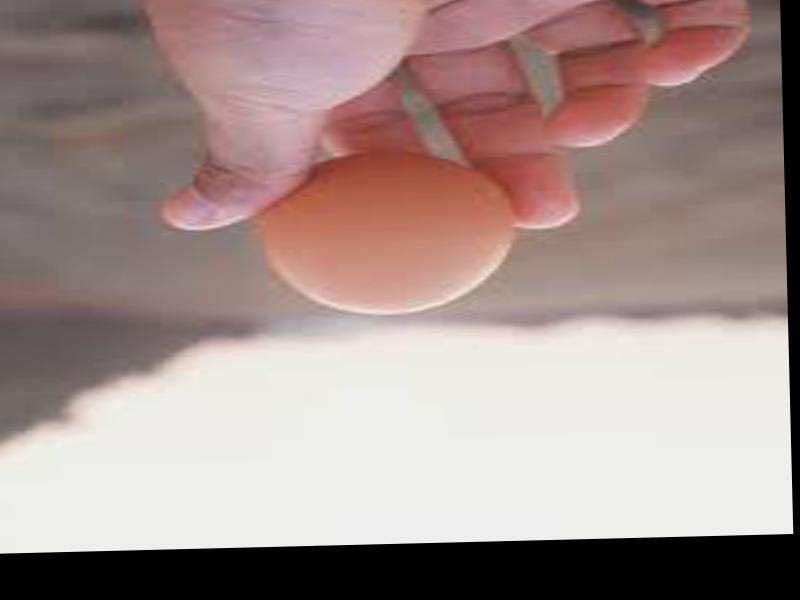Eggs: (259, 151, 517, 317)
